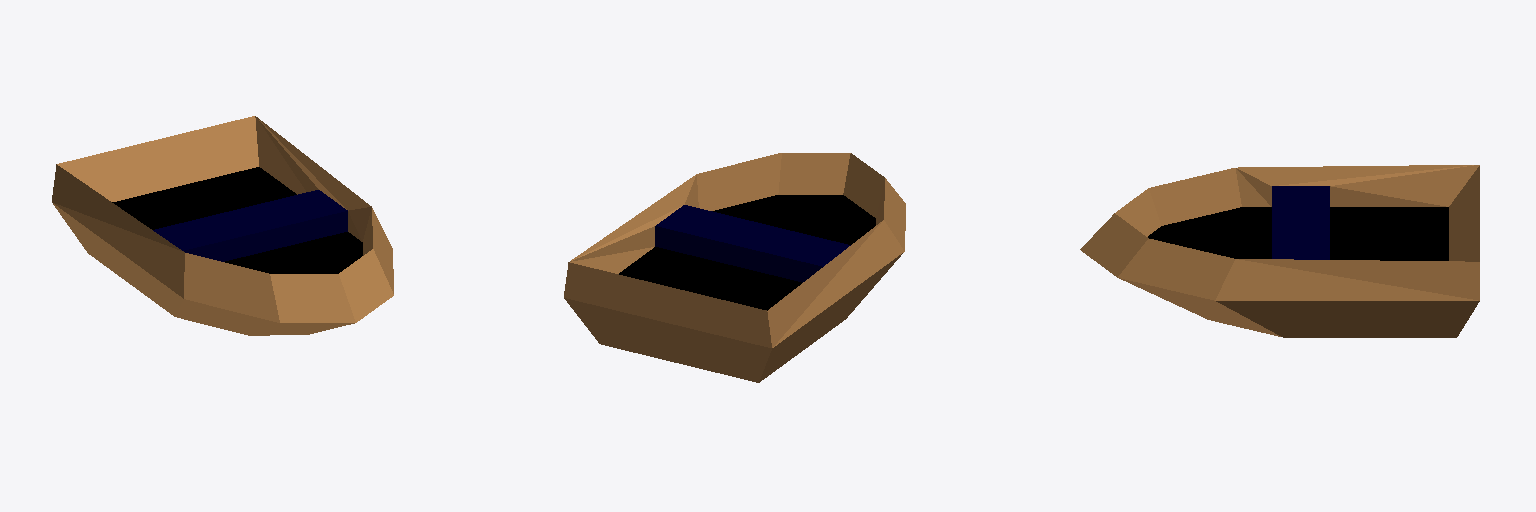
Rendered from watercraftPack_028.obj.
3 views of the same model, side by side, from view 1: azimuth 30°, elevation 25°; view 2: azimuth 150°, elevation 25°; view 3: azimuth 270°, elevation 25° (orthographic).
Parts seen in each view (by area): view 1: watercraftPack_028; view 2: watercraftPack_028; view 3: watercraftPack_028.
Boxes of the visible parts, <box> form: watercraftPack_028: <box>52,116,393,335</box>; watercraftPack_028: <box>564,153,905,382</box>; watercraftPack_028: <box>1080,165,1479,337</box>.
Bounding box in the file's own units: 1.78 × 0.7 × 2.97.